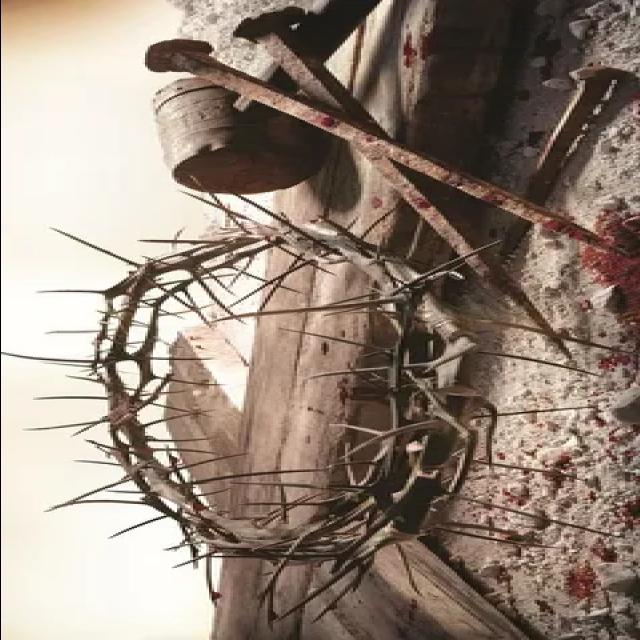crown: (50, 216, 492, 592)
